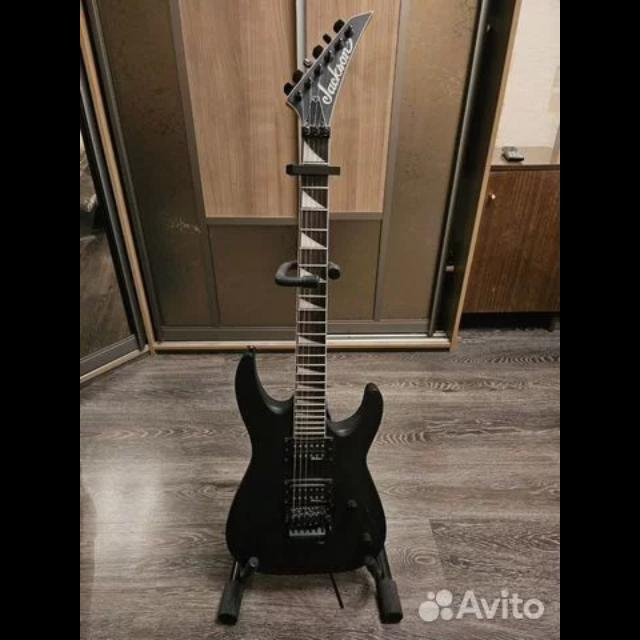Electric-Guitar: (227, 12, 387, 578)
